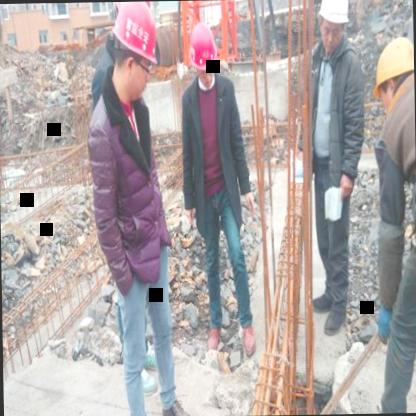helmet: (104, 1, 170, 108), (368, 23, 414, 129), (184, 20, 219, 82), (316, 0, 353, 49)
